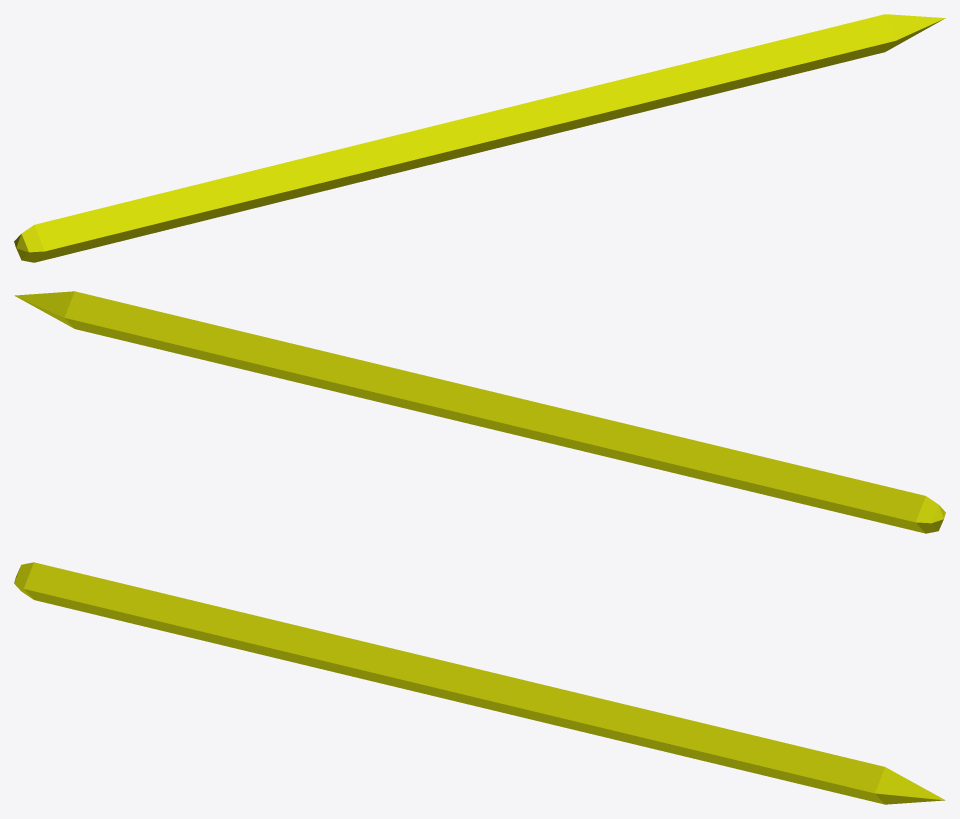
The picture shows the model from 3 angles, top to bottom: view 1: azimuth 30°, elevation 25°; view 2: azimuth 150°, elevation 25°; view 3: azimuth 330°, elevation 25°; orthographic projection.
Parts seen in each view (by area): view 1: brush_MatteHull_g0_b0; view 2: brush_MatteHull_g0_b0; view 3: brush_MatteHull_g0_b0.
Boxes of the visible parts, bbox=[...] form: brush_MatteHull_g0_b0: bbox=[14, 14, 945, 262]; brush_MatteHull_g0_b0: bbox=[14, 291, 945, 533]; brush_MatteHull_g0_b0: bbox=[14, 562, 945, 804].
Size of the model in its own units: 0.5555 by 0.0216 by 0.0248.
